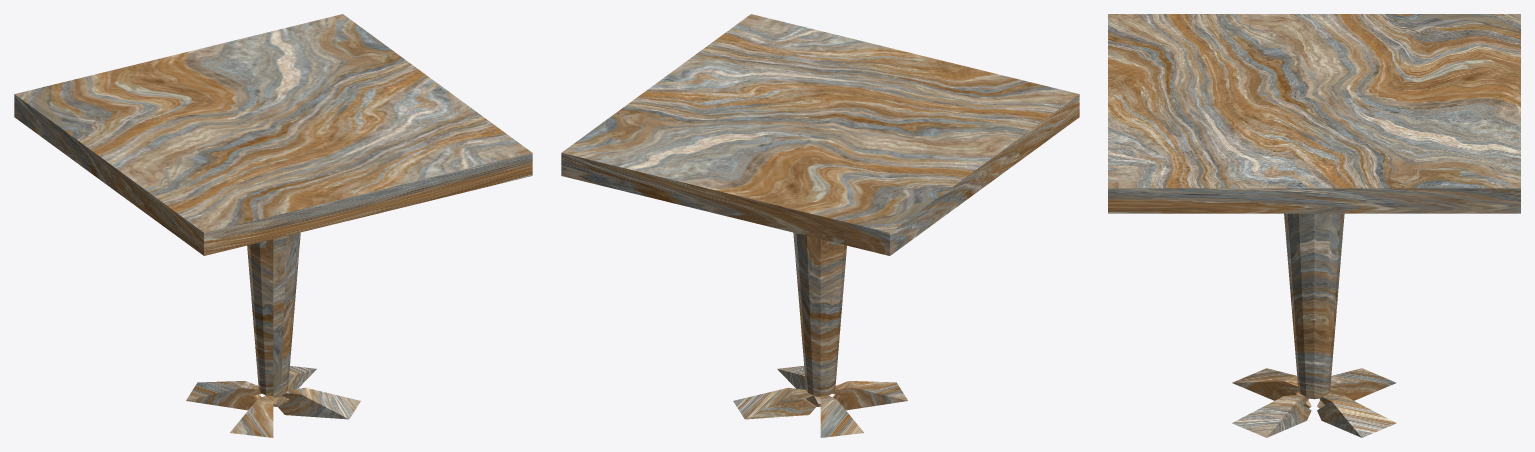
Rendered from TABLE.fbx.
3 renders of one model, left to right at view 1: azimuth 30°, elevation 25°; view 2: azimuth 150°, elevation 25°; view 3: azimuth 270°, elevation 25°, orthographic. The views are drawn at different scales.
Parts seen in each view (by area): view 1: Cylinder; view 2: Cylinder; view 3: Cylinder.
Part boxes in pixels (x1,y1,x2,y2): Cylinder: (14, 14, 532, 437); Cylinder: (561, 14, 1079, 437); Cylinder: (1108, 14, 1520, 437).
Bounding box in the file's own units: 117 × 98.21 × 117.
